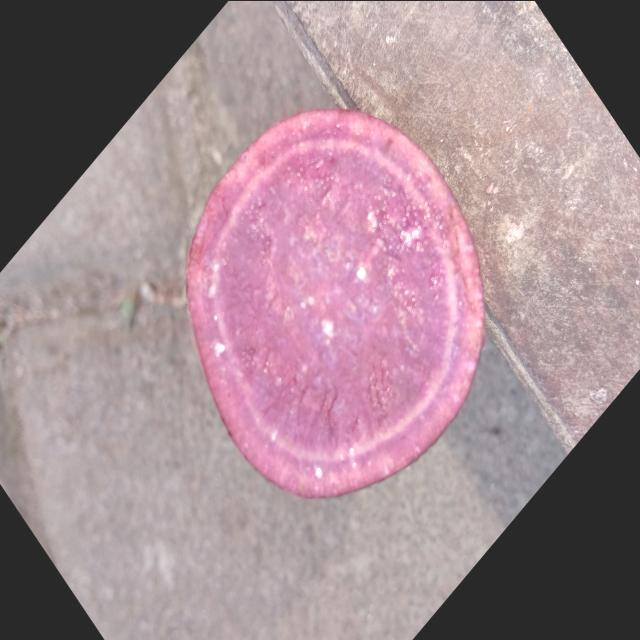Healthy Sweet Potato: (186, 108, 485, 497)
